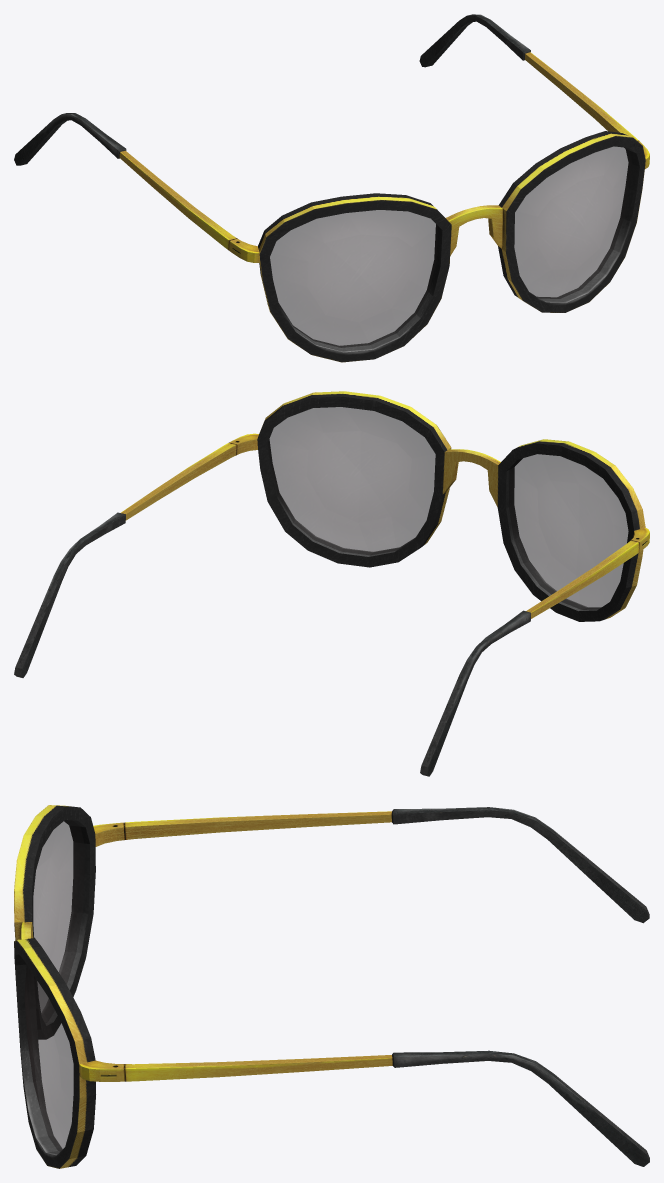
Rendered from item12.obj.
3 renders of one model, top to bottom at view 1: azimuth 30°, elevation 25°; view 2: azimuth 150°, elevation 25°; view 3: azimuth 270°, elevation 25°, orthographic. The views are drawn at different scales.
Parts seen in each view (by area): view 1: Sun_Glasses_len, Sun_Glasses; view 2: Sun_Glasses_len, Sun_Glasses; view 3: Sun_Glasses, Sun_Glasses_len.
Part boxes in pixels (box(x1,y1,x2,y2)): Sun_Glasses_len: box(270, 146, 632, 347); Sun_Glasses: box(14, 14, 649, 362); Sun_Glasses_len: box(268, 407, 628, 609); Sun_Glasses: box(14, 391, 649, 776); Sun_Glasses: box(14, 805, 649, 1168); Sun_Glasses_len: box(24, 820, 84, 1151).
Bounding box in the file's own units: 15.35 × 5.83 × 16.62.
